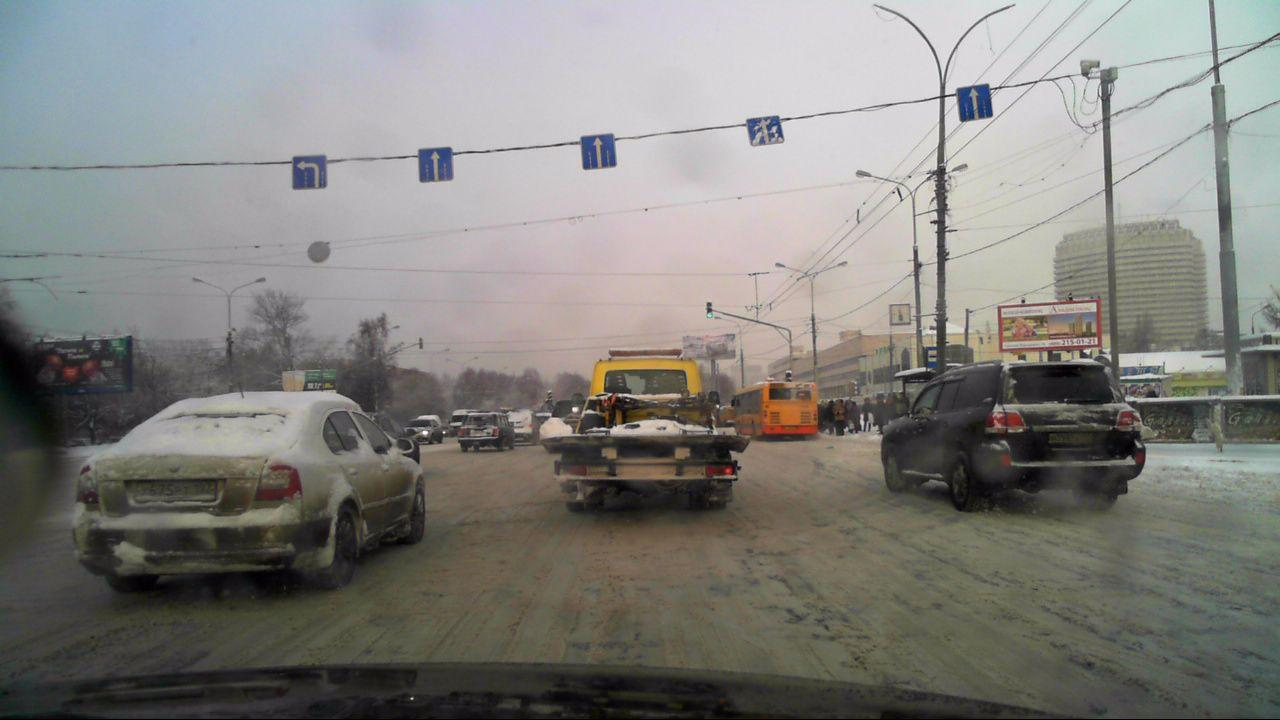5_15_2: (954, 83, 994, 122), (578, 133, 618, 171), (417, 144, 456, 181), (290, 154, 328, 190), (747, 115, 783, 145)
